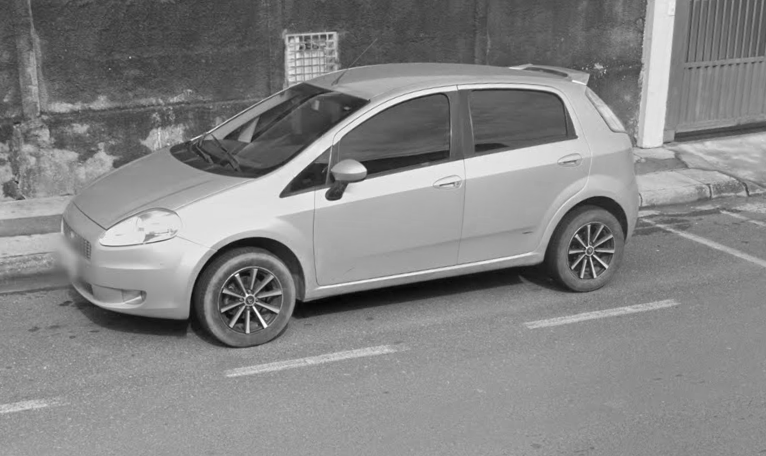car: (58, 59, 654, 348)
